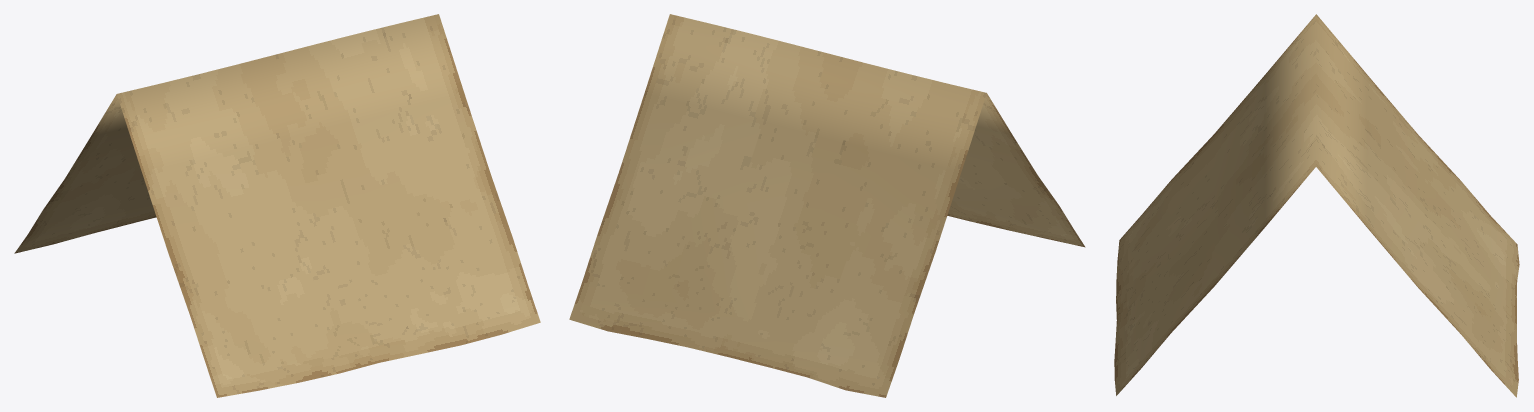
The model's file is paper_mesh_card_display.glb.
The picture shows the model from 3 angles, left to right: view 1: azimuth 30°, elevation 25°; view 2: azimuth 150°, elevation 25°; view 3: azimuth 270°, elevation 25°; orthographic projection.
Parts seen in each view (by area): view 1: Paper; view 2: Paper; view 3: Paper.
Boxes of the visible parts, bbox=[...] form: Paper: bbox=[14, 14, 540, 397]; Paper: bbox=[569, 14, 1085, 397]; Paper: bbox=[1114, 14, 1519, 397].
Size of the model in its own units: 0.1998 by 0.1409 by 0.2218.
1 material, 1 textured.
